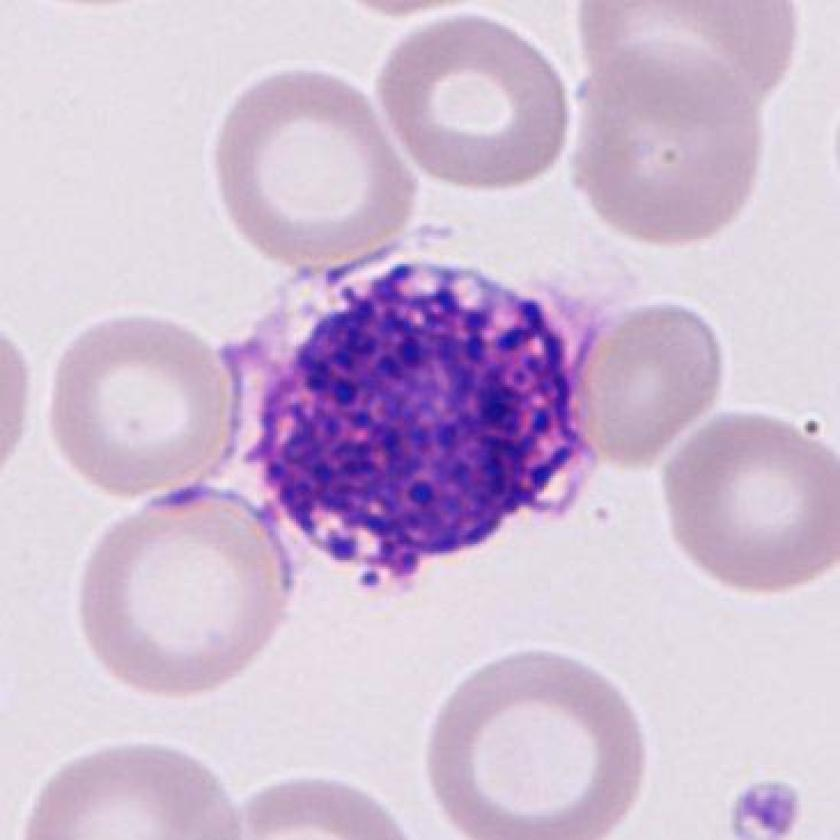basophil: (245, 251, 596, 584)
